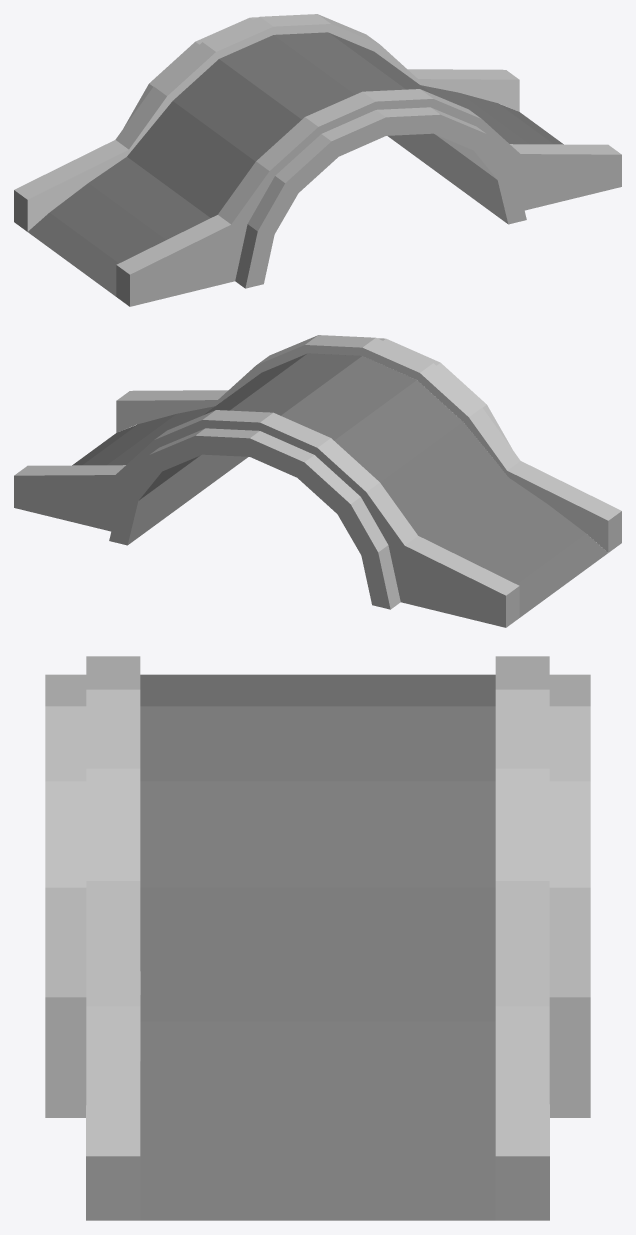
File: bridge.FBX
The picture shows the model from 3 angles, top to bottom: view 1: azimuth 30°, elevation 25°; view 2: azimuth 150°, elevation 25°; view 3: azimuth 270°, elevation 25°; orthographic projection. The views are drawn at different scales.
Visible parts, largest first — view 1: bridge; view 2: bridge; view 3: bridge.
Boxes of the visible parts, x1=… form: bridge: x1=14, y1=14, x2=621, y2=306; bridge: x1=14, y1=335, x2=621, y2=627; bridge: x1=45, y1=656, x2=590, y2=1220.
Size of the model in its own units: 7.12 by 2.01 by 3.41.
1 material, 1 textured.
